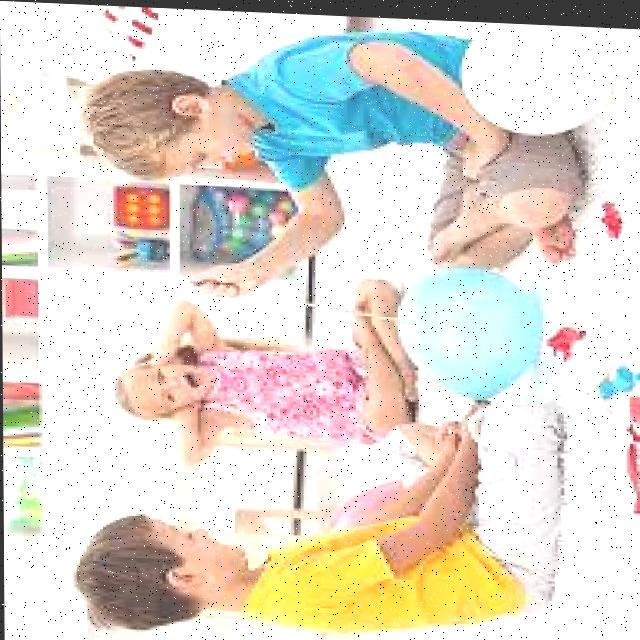balloon: (395, 254, 533, 395), (458, 17, 610, 136)
